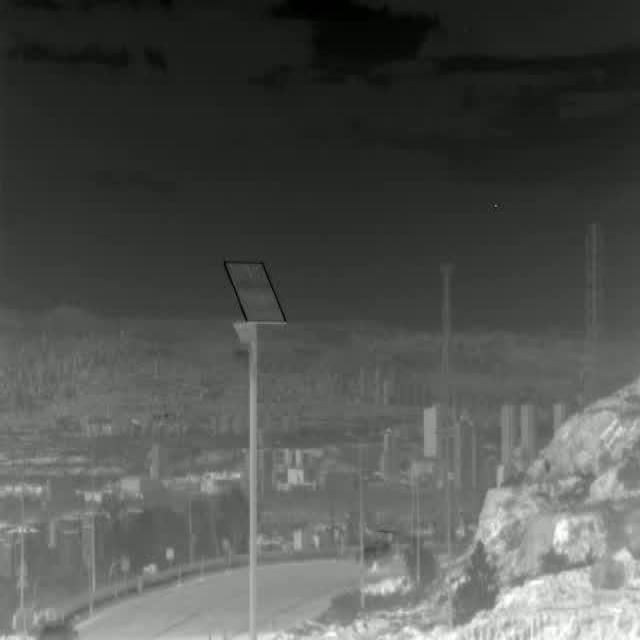Car: (354, 540, 396, 568), (37, 622, 78, 640)
